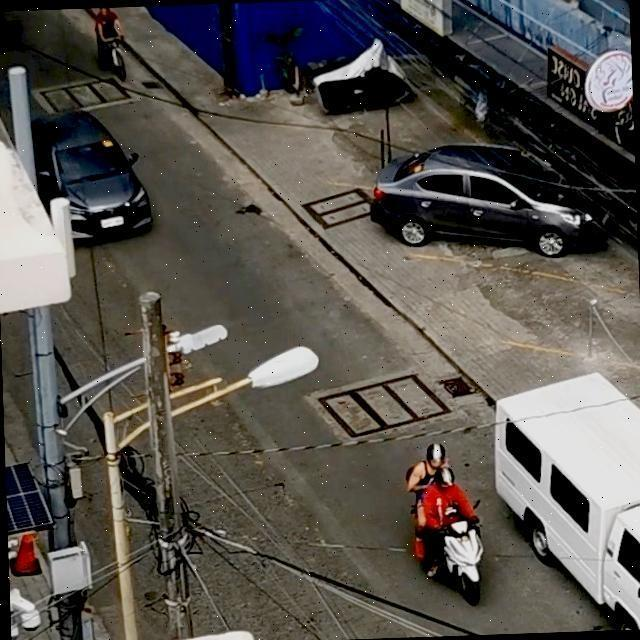Bike: (396, 421, 494, 607), (92, 6, 125, 68)
